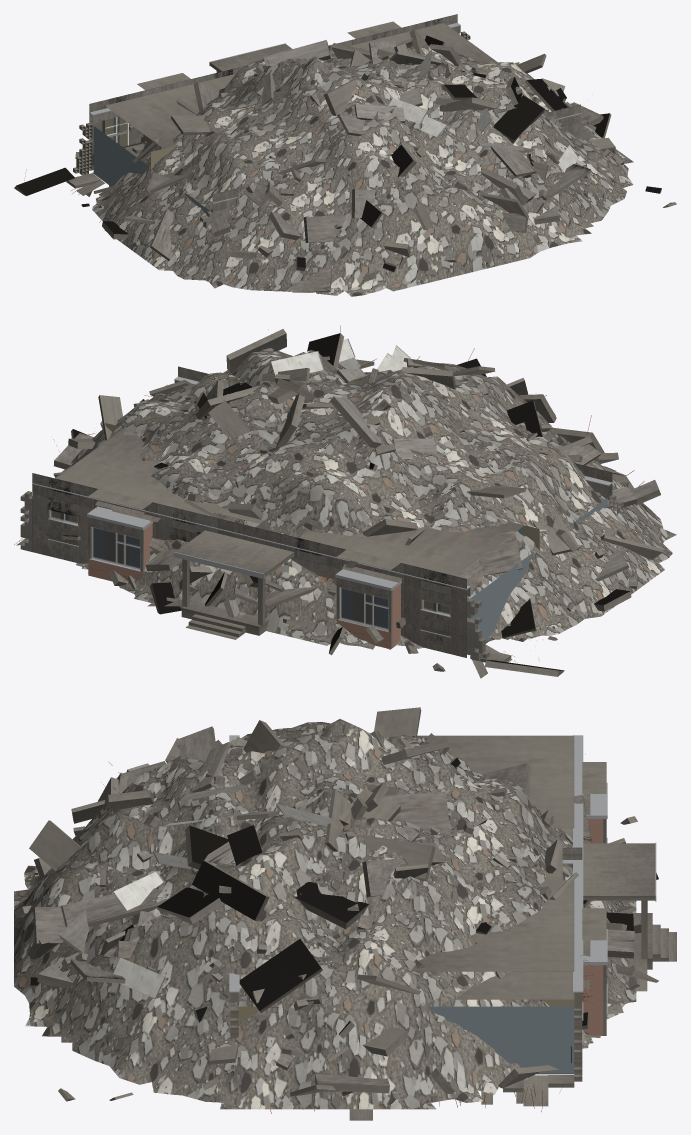
Rendered from bld_d16_t.glb.
3 views of the same model, one above another, from view 1: azimuth 30°, elevation 25°; view 2: azimuth 150°, elevation 25°; view 3: azimuth 270°, elevation 25° (orthographic). The views are drawn at different scales.
Parts seen in each view (by area): view 1: rubble_xl, sec_ground_F_s2c, sec_ground_F_s0, edge_L_F_a, sec_ground_F_s2a, sec_floor0_F_s0, sec_ground_Y_s0, edge_L_F_b; view 2: rubble_xl, sec_ground_F_s0, sec_floor0_F_s0, sec_ground_F_s2c, sec_ground_F_s2a, sec_top0_F_s0, sec_ground_F_s2b, edge_L_F_a, sec_floor0_F_s2a, rubble_l, rubble_m, sec_ground_Y_s0 (+1 smaller); view 3: rubble_xl, edge_R_F_a, sec_ground_F_s0, sec_ground_F_s2c, sec_ground_F_s2b, sec_top0_F_s0, sec_floor0_F_s2a, sec_ground_F_s2a, sec_floor0_F_s0, rubble_l.
Boxes of the visible parts, bbox=[...] form: rubble_xl: bbox=[14, 29, 676, 296]; sec_ground_F_s2c: bbox=[89, 66, 244, 156]; sec_ground_F_s0: bbox=[89, 14, 519, 169]; edge_L_F_a: bbox=[72, 123, 149, 197]; sec_ground_F_s2a: bbox=[328, 14, 497, 63]; sec_floor0_F_s0: bbox=[89, 121, 143, 170]; sec_ground_Y_s0: bbox=[151, 62, 580, 213]; edge_L_F_b: bbox=[66, 124, 101, 222]; rubble_xl: bbox=[53, 325, 676, 676]; sec_ground_F_s0: bbox=[32, 423, 539, 657]; sec_floor0_F_s0: bbox=[32, 494, 539, 657]; sec_ground_F_s2c: bbox=[280, 521, 524, 637]; sec_ground_F_s2a: bbox=[32, 429, 218, 542]; sec_top0_F_s0: bbox=[32, 483, 470, 597]; sec_ground_F_s2b: bbox=[83, 435, 221, 522]; edge_L_F_a: bbox=[467, 551, 534, 678]; sec_floor0_F_s2a: bbox=[32, 495, 195, 563]; rubble_l: bbox=[76, 563, 501, 653]; rubble_m: bbox=[149, 579, 313, 625]; sec_ground_Y_s0: bbox=[105, 366, 612, 548]; rubble_xl: bbox=[14, 707, 658, 1109]; edge_R_F_a: bbox=[428, 1006, 582, 1111]; sec_ground_F_s0: bbox=[582, 762, 676, 1020]; sec_ground_F_s2c: bbox=[417, 735, 590, 840]; sec_ground_F_s2b: bbox=[419, 880, 592, 976]; sec_top0_F_s0: bbox=[573, 735, 607, 992]; sec_floor0_F_s2a: bbox=[453, 972, 590, 1006]; sec_ground_F_s2a: bbox=[410, 908, 592, 1008]; sec_floor0_F_s0: bbox=[582, 819, 607, 1045]; rubble_l: bbox=[431, 900, 640, 1093].
Size of what is drawn, in the model's own units: 30.71 by 9.39 by 24.5.
1 material, 1 textured.
